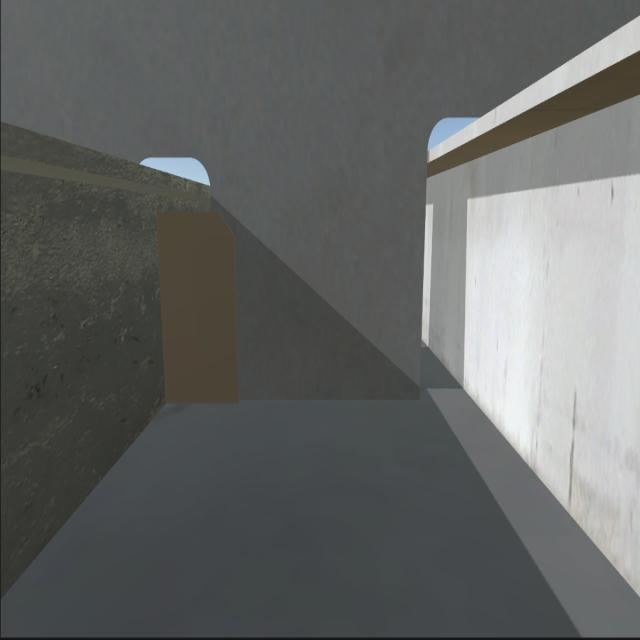fillet_yong_jeop_jang: (165, 396, 419, 406)
longi_yong_jeop_jang: (153, 220, 166, 400)
plate_CP03: (156, 214, 238, 404)
